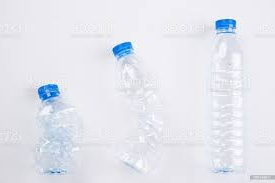plastic water bottle: (108, 41, 162, 177), (207, 16, 248, 176), (32, 84, 83, 176)
